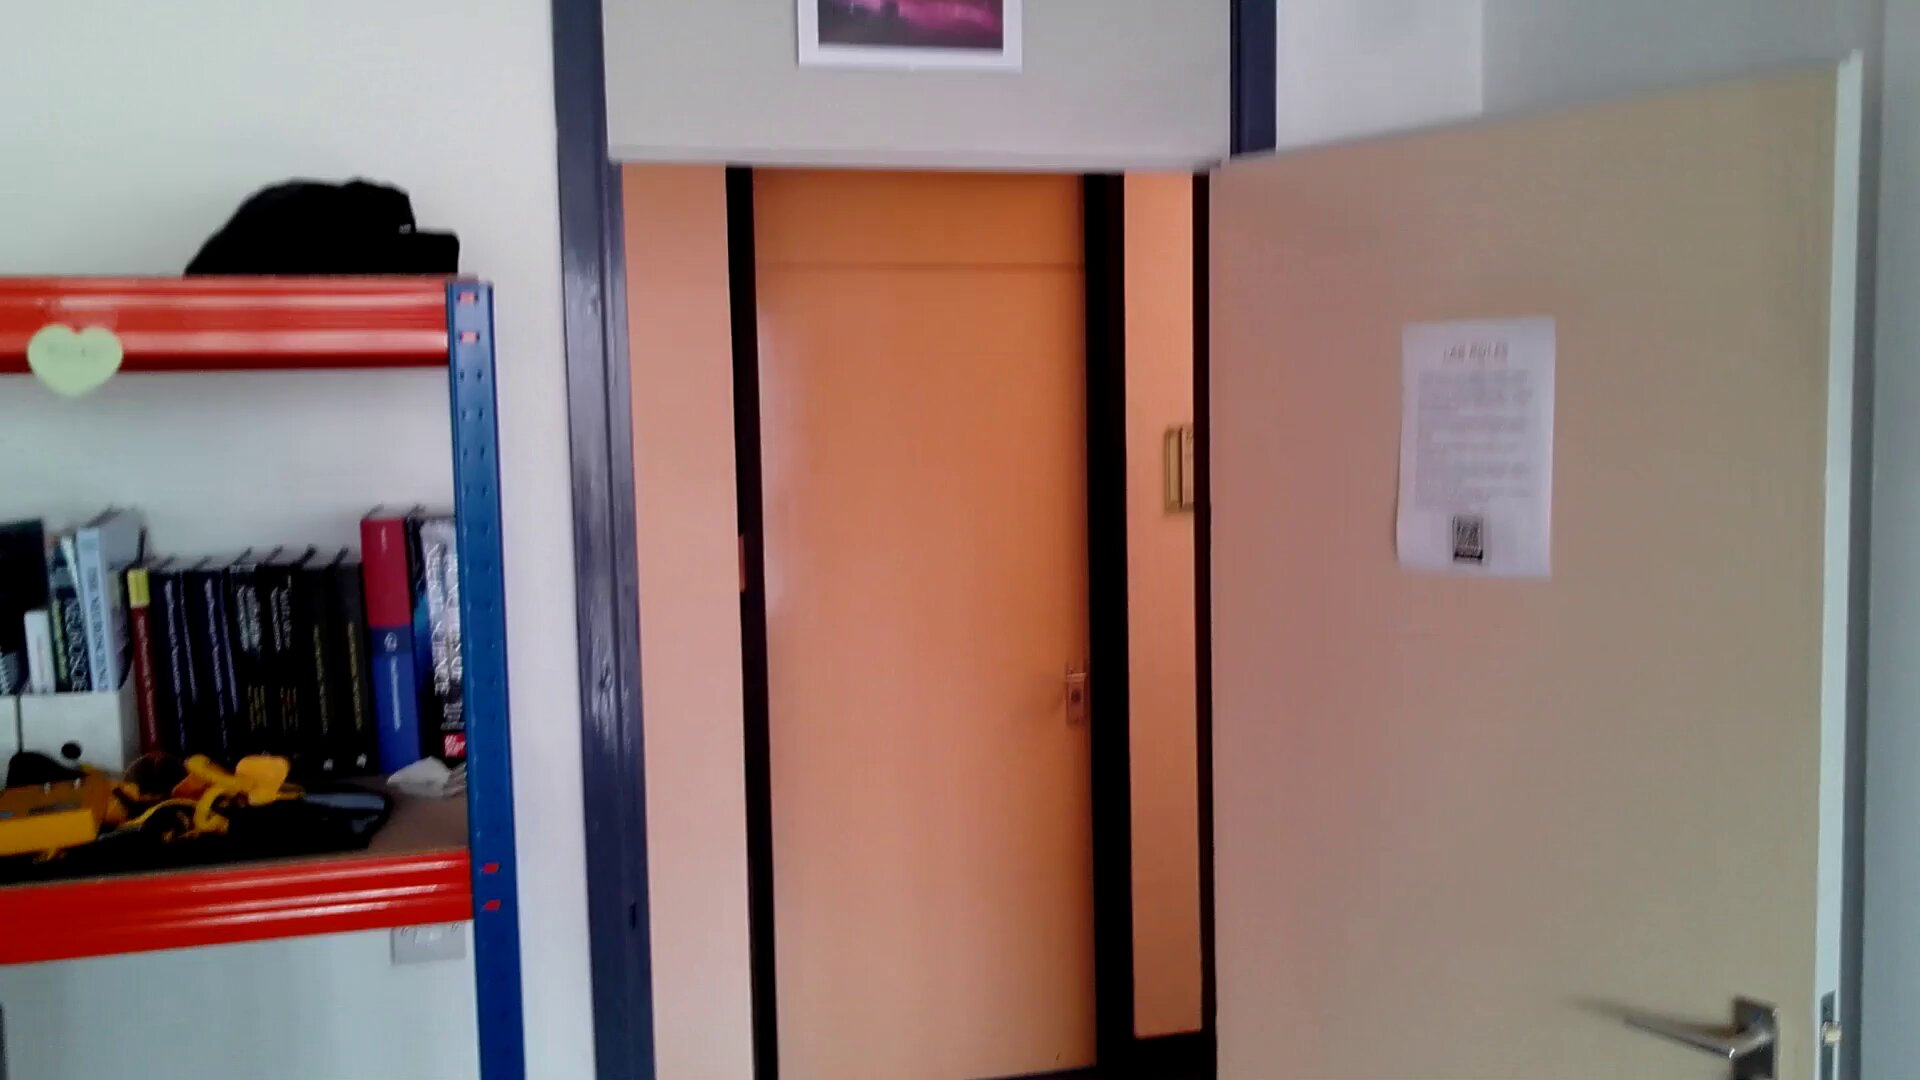Door: (1205, 55, 1855, 1080), (721, 247, 1150, 1080)
